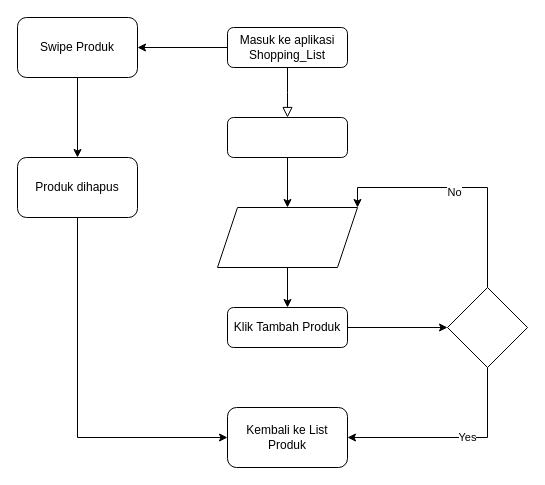
This 545x485 diagram has some shape labels left out. The centre of each missing label's shape, as x and y in pixels:
"Masuk ke Tambah Produk" belongs at [287,137].
"Masukkan Nama, Quantity, dan pilih Jenis" belongs at [287,237].
"Valid?" belongs at [487,327].
